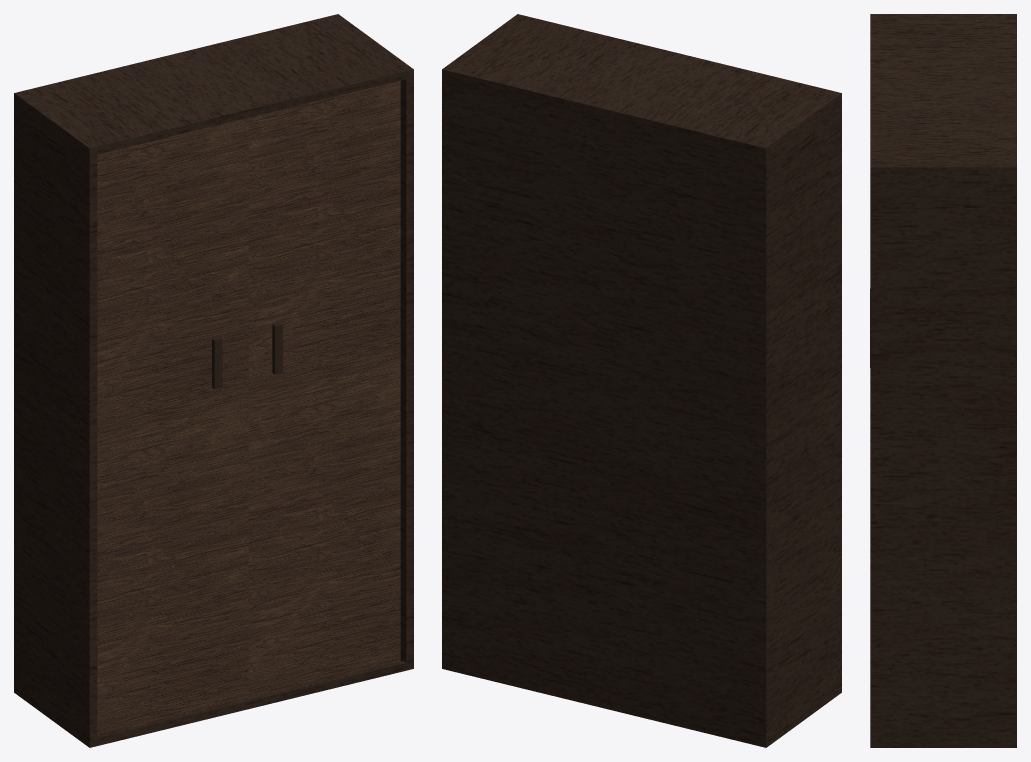
The model's file is wardrobe.fbx.
3 views of the same model, side by side, from view 1: azimuth 30°, elevation 25°; view 2: azimuth 150°, elevation 25°; view 3: azimuth 270°, elevation 25° (orthographic). The views are drawn at different scales.
Visible parts, largest first — view 1: right door, closet, left door; view 2: closet; view 3: closet.
Boxes of the visible parts, x1=… form: right door: x1=248, y1=80, x2=400, y2=698; closet: x1=14, y1=14, x2=413, y2=747; left door: x1=97, y1=118, x2=248, y2=735; closet: x1=442, y1=14, x2=841, y2=747; closet: x1=870, y1=14, x2=1016, y2=747.
Size of the model in its own units: 792 by 1400 by 321.
